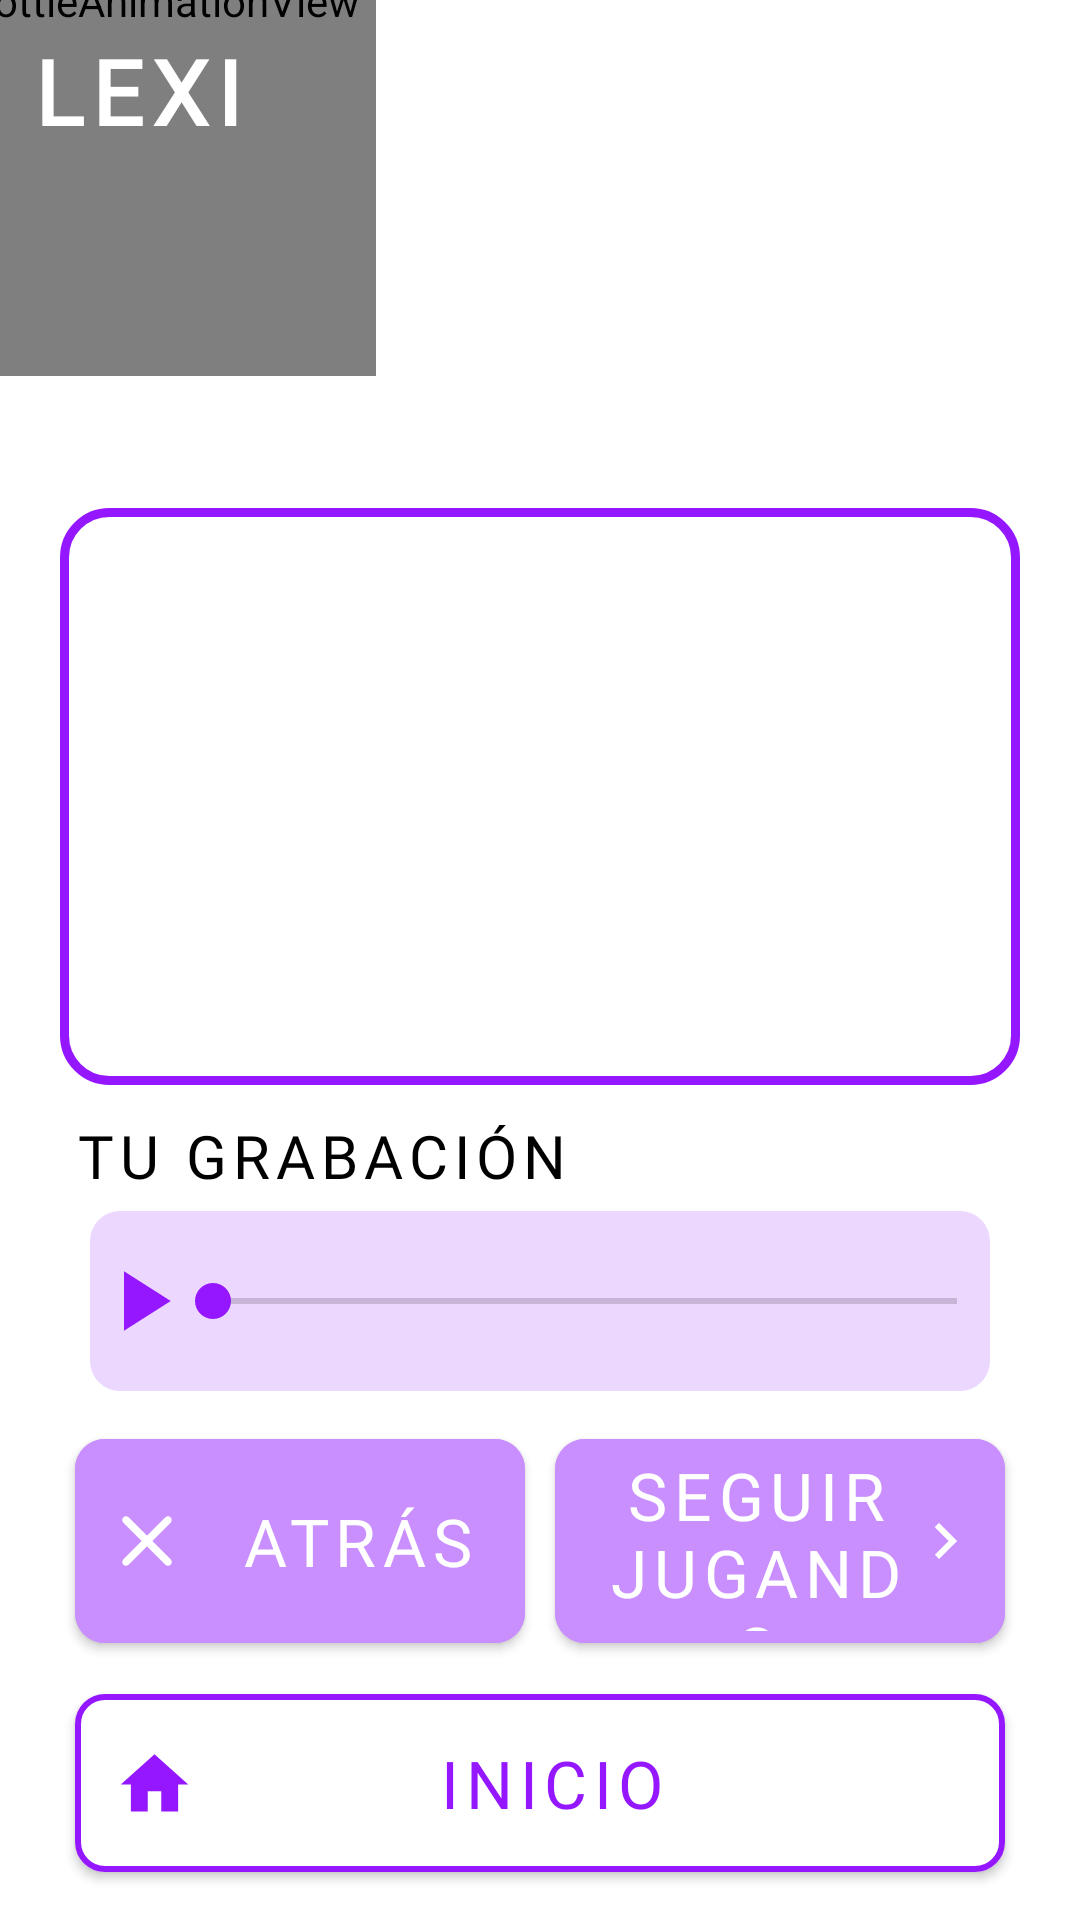

Screen size 1080 × 1920. Icon name, then its box in pixels as region(x1, y1, x2, y2):
play: region(124, 1271, 171, 1331)
